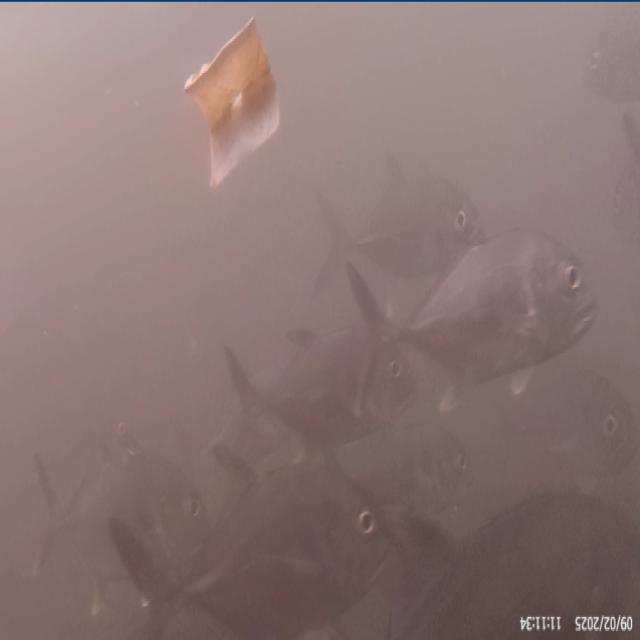ikan: (116, 434, 393, 611), (419, 200, 607, 360), (329, 148, 499, 280), (222, 325, 420, 425)
